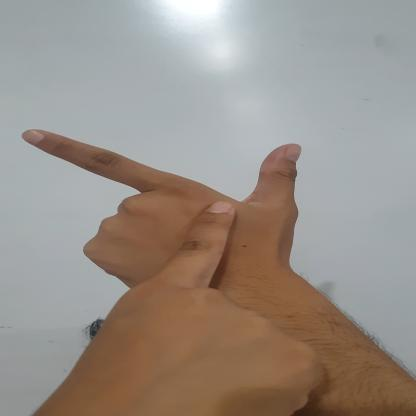Y: (20, 129, 302, 326)
